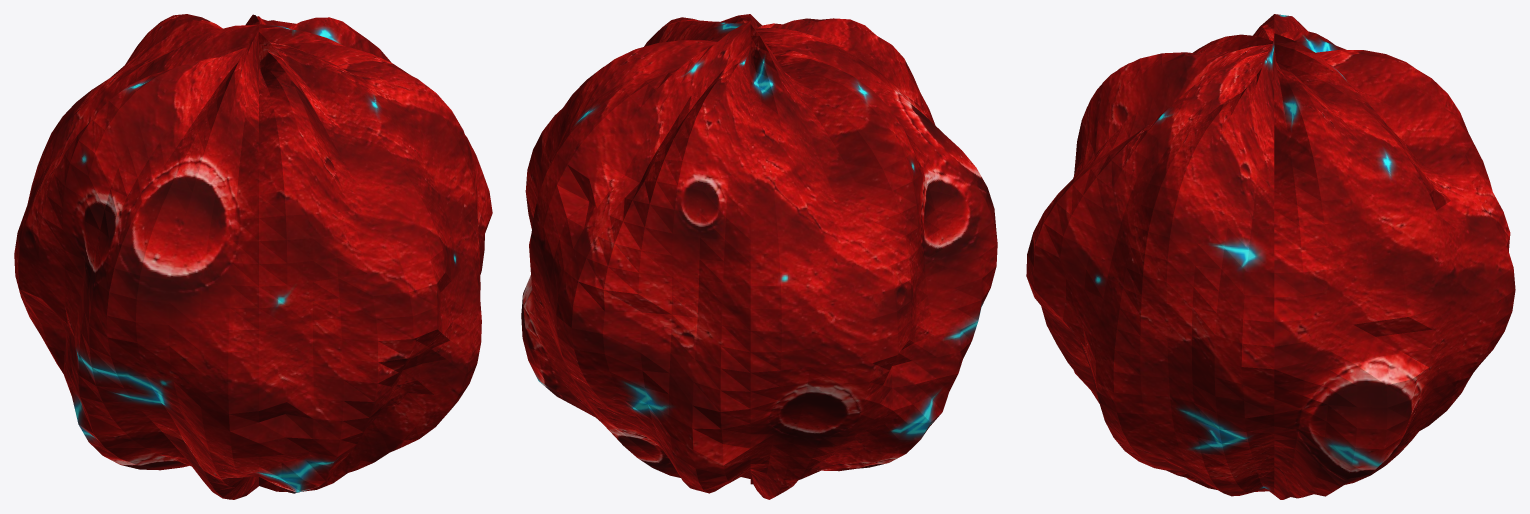
Rendered from asteroide_explosivo_pequeno.obj.
3 views of the same model, side by side, from view 1: azimuth 30°, elevation 25°; view 2: azimuth 150°, elevation 25°; view 3: azimuth 270°, elevation 25° (orthographic).
Visible parts, largest first — view 1: Asteroide_explosivo_pequeno; view 2: Asteroide_explosivo_pequeno; view 3: Asteroide_explosivo_pequeno.
Part boxes in pixels (x1=…): Asteroide_explosivo_pequeno: x1=14, y1=14, x2=492, y2=499; Asteroide_explosivo_pequeno: x1=521, y1=14, x2=997, y2=499; Asteroide_explosivo_pequeno: x1=1026, y1=14, x2=1515, y2=499.
Size of the model in its own units: 2.12 by 2.23 by 2.15.
1 material, 1 textured.
